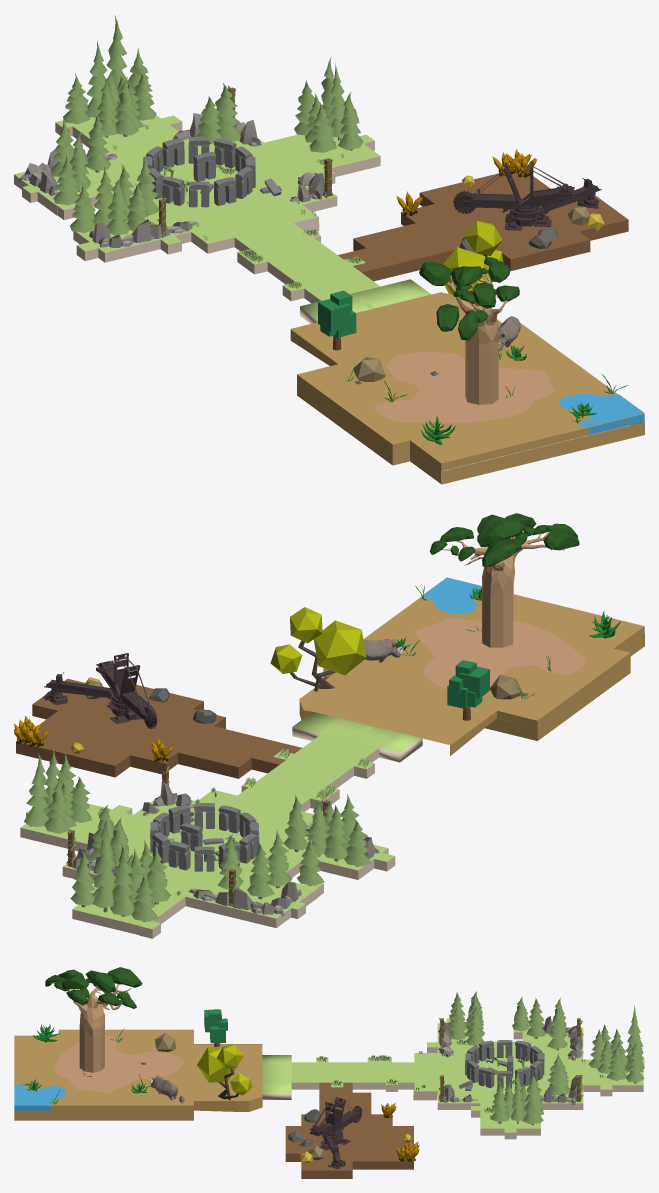
The model's file is map.glb.
The picture shows the model from 3 angles, top to bottom: view 1: azimuth 30°, elevation 25°; view 2: azimuth 150°, elevation 25°; view 3: azimuth 270°, elevation 25°; orthographic projection. The views are drawn at different scales.
Visible parts, largest first — view 1: Isometric_Game_Level_Low_Poly, Savanna.055, Cube, Savanna.011, Majomkenyérfa.001, polySurface205.001, Savanna.050, Savanna.025, Savanna.037; view 2: Isometric_Game_Level_Low_Poly, Savanna.055, Cube, Majomkenyérfa.001, Savanna.011, Savanna.050, polySurface205.001, Savanna.037, Savanna.025, Savanna.041, Savanna.047; view 3: Isometric_Game_Level_Low_Poly, Savanna.055, Cube, Majomkenyérfa.001, Savanna.011, Savanna.050, polySurface205.001, Savanna.025, Savanna.037, Savanna.041, Savanna.047.
Boxes of the visible parts, x1,y1,x2,y2 form: Isometric_Game_Level_Low_Poly: (14, 15, 430, 323); Savanna.055: (290, 292, 644, 484); Cube: (338, 173, 628, 281); Savanna.011: (374, 352, 554, 422); Majomkenyérfa.001: (419, 257, 519, 404); polySurface205.001: (453, 161, 601, 230); Savanna.050: (443, 221, 503, 303); Savanna.025: (558, 393, 644, 427); Savanna.037: (318, 290, 356, 350); Isometric_Game_Level_Low_Poly: (20, 712, 422, 938); Savanna.055: (299, 594, 644, 755); Cube: (16, 678, 301, 778); Majomkenyérfa.001: (429, 513, 579, 647); Savanna.011: (414, 618, 585, 689); Savanna.050: (270, 607, 366, 691); polySurface205.001: (43, 653, 157, 729); Savanna.037: (447, 660, 489, 720); Savanna.025: (422, 577, 481, 614); Savanna.041: (363, 638, 403, 662); Savanna.047: (490, 674, 522, 699); Isometric_Game_Level_Low_Poly: (262, 991, 644, 1139); Savanna.055: (14, 1029, 262, 1120); Cube: (285, 1082, 413, 1178); Majomkenyérfa.001: (45, 967, 142, 1072); Savanna.011: (55, 1035, 183, 1093); Savanna.050: (197, 1044, 251, 1100); polySurface205.001: (309, 1097, 362, 1169); Savanna.025: (14, 1084, 66, 1105); Savanna.037: (204, 1009, 227, 1046); Savanna.041: (150, 1075, 177, 1100); Savanna.047: (154, 1033, 175, 1051).
Size of the model in its own units: 59.05 by 19.79 by 104.
